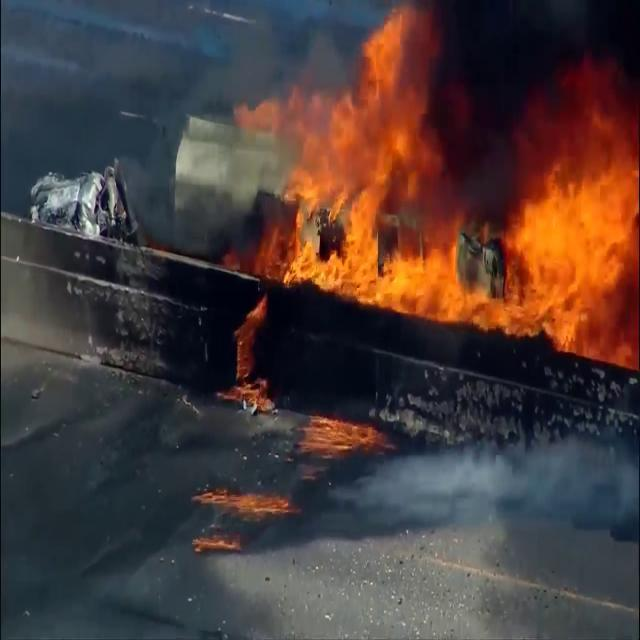Fire: (239, 24, 639, 364)
